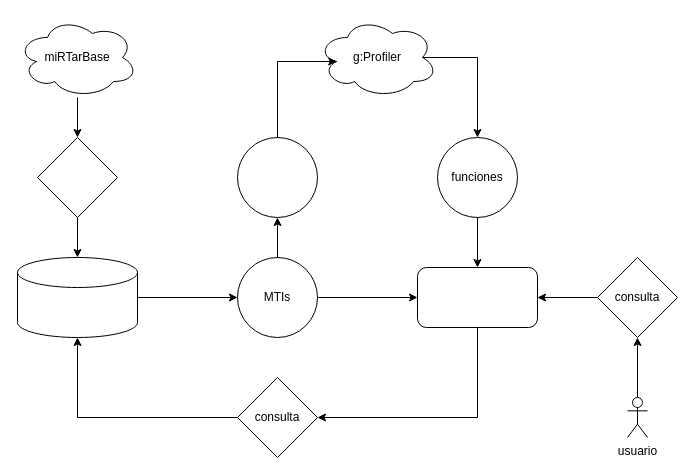
This 695x476 diagram has some shape labels left out. Here are the shapes that lost their labels. From the top down, the centre of each, then its label:
At pixel 77 177: "importación".
At pixel 277 177: "genes".
At pixel 77 297: "MongoDB".
At pixel 477 297: "API REST".
